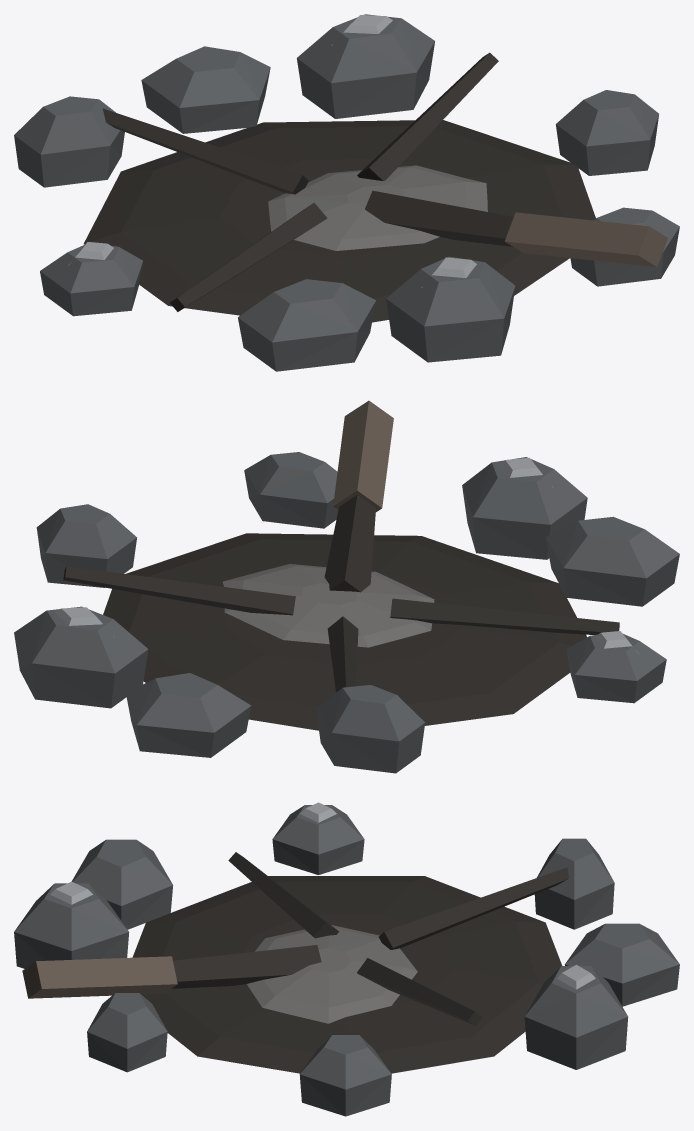
The model's file is cold_campfire.glb.
3 renders of one model, top to bottom at view 1: azimuth 30°, elevation 25°; view 2: azimuth 150°, elevation 25°; view 3: azimuth 270°, elevation 25°, orthographic. The views are drawn at different scales.
Parts seen in each view (by area): view 1: cold_campfire; view 2: cold_campfire; view 3: cold_campfire.
Boxes of the visible parts, x1,y1,x2,y2 form: cold_campfire: [14, 14, 679, 371]; cold_campfire: [14, 400, 679, 773]; cold_campfire: [14, 802, 679, 1116].
Size of the model in its own units: 1.25 by 0.16 by 1.25.
